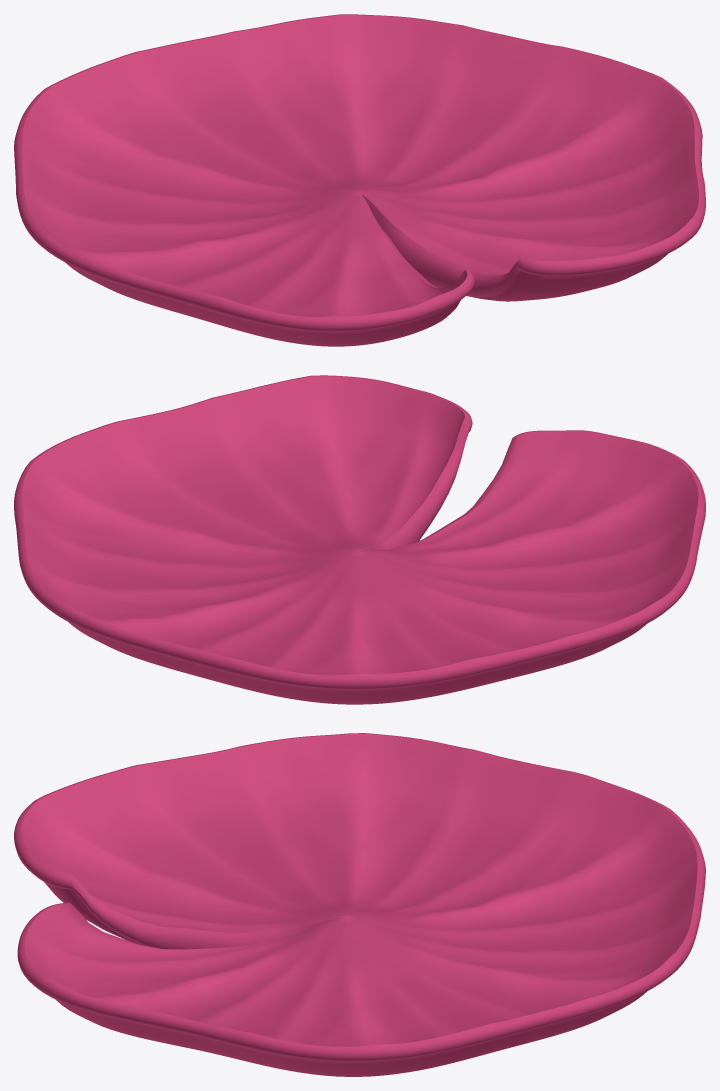
File: LilyPad_Red.glb
3 views of the same model, one above another, from view 1: azimuth 30°, elevation 25°; view 2: azimuth 150°, elevation 25°; view 3: azimuth 270°, elevation 25° (orthographic). The views are drawn at different scales.
Parts seen in each view (by area): view 1: LilyPad_Red; view 2: LilyPad_Red; view 3: LilyPad_Red.
Boxes of the visible parts, bbox=[...] form: LilyPad_Red: bbox=[14, 14, 705, 346]; LilyPad_Red: bbox=[14, 375, 705, 704]; LilyPad_Red: bbox=[14, 733, 705, 1076].
Bounding box in the file's own units: 2 × 0.3388 × 1.84.
